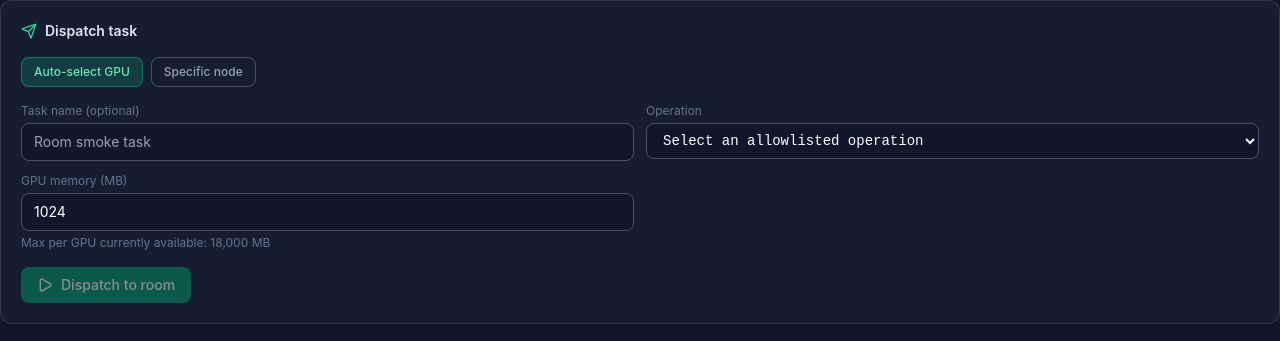
Test: RoomDispatchPanel › validates GPU memory against single-GPU capacity via a single room GPUs request
Expected: the text "Max per GPU currently available: 18,000 MB" is shown, [21,235,270,250]
Replace the text in the number field labelled "GPU memory (MB)" with "19000": point(328, 212) [21,193,634,231]
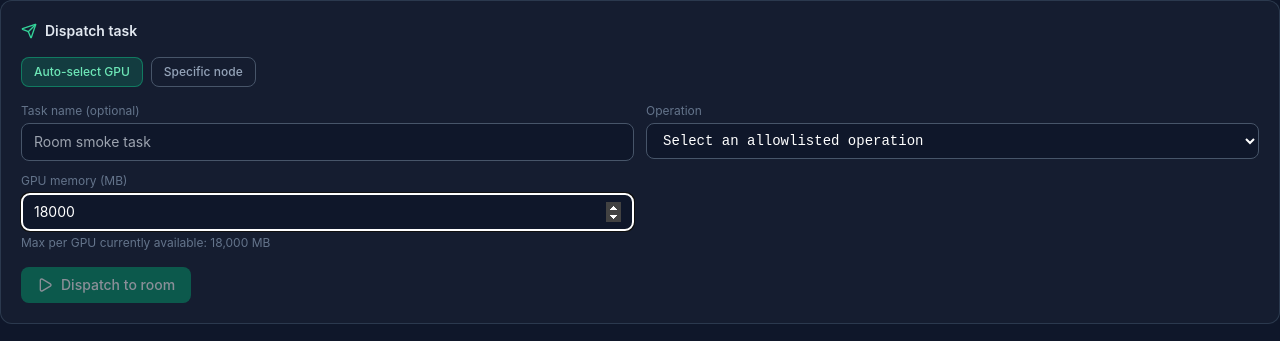
Expected: the number field labelled "GPU memory (MB)" holds "18000", [21,193,634,231]
